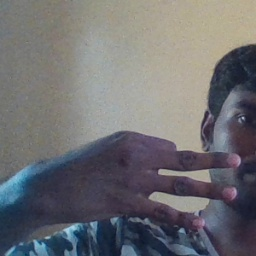K: (55, 128, 246, 235)
